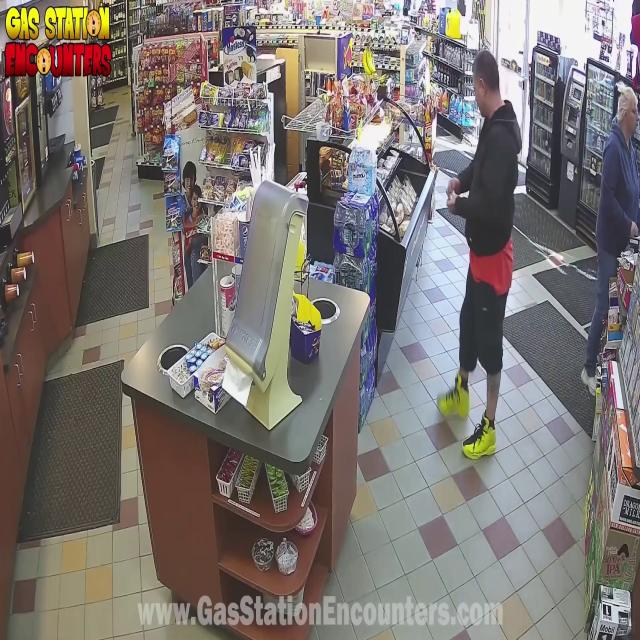normal: (429, 36, 526, 456), (591, 50, 640, 369)
